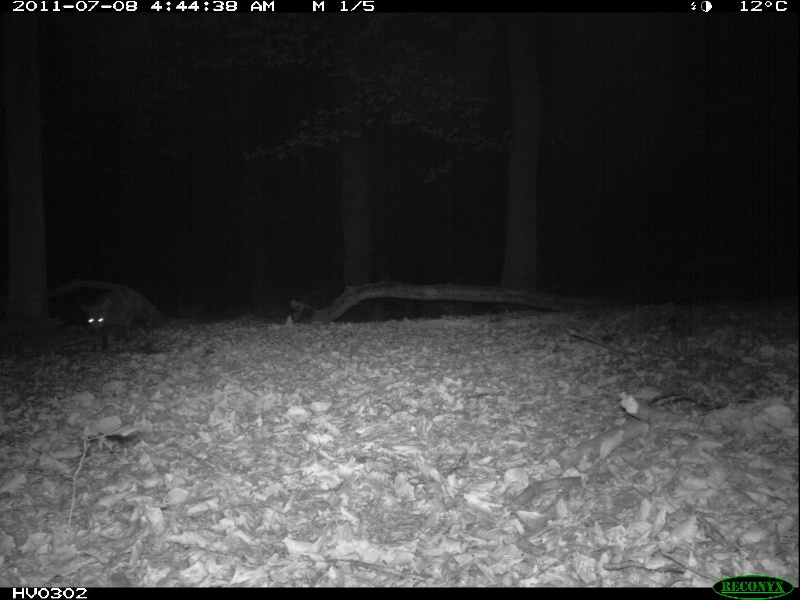fox: (87, 290, 171, 351)
